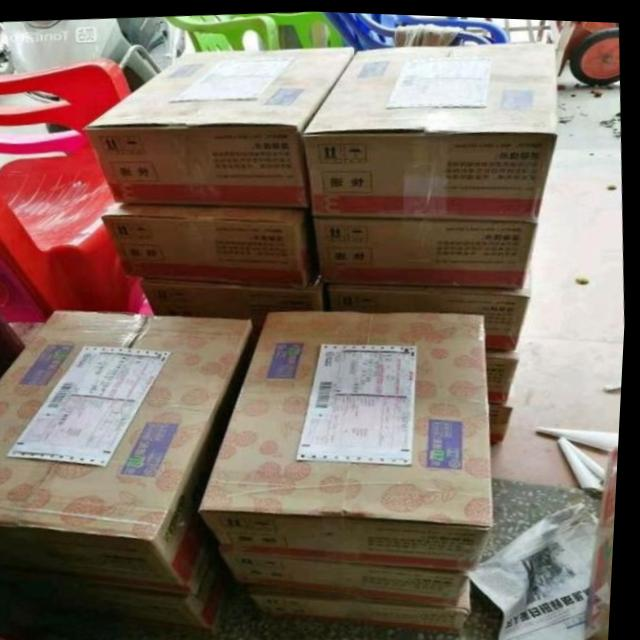box: (203, 309, 498, 567), (0, 309, 263, 591), (304, 38, 561, 216), (82, 44, 354, 208), (102, 200, 312, 286), (330, 259, 534, 346), (72, 534, 241, 632), (316, 216, 540, 285), (226, 550, 476, 603), (253, 574, 477, 631), (143, 276, 323, 332), (592, 437, 623, 638), (489, 343, 522, 401), (492, 385, 518, 438)
